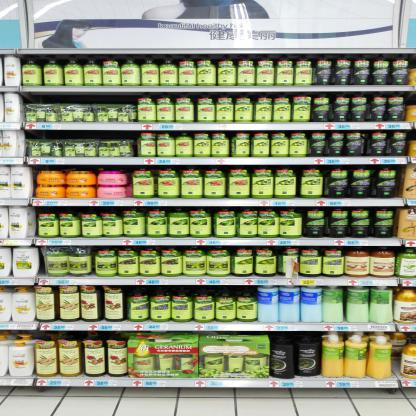Void: (29, 93, 133, 104), (27, 130, 133, 139)
